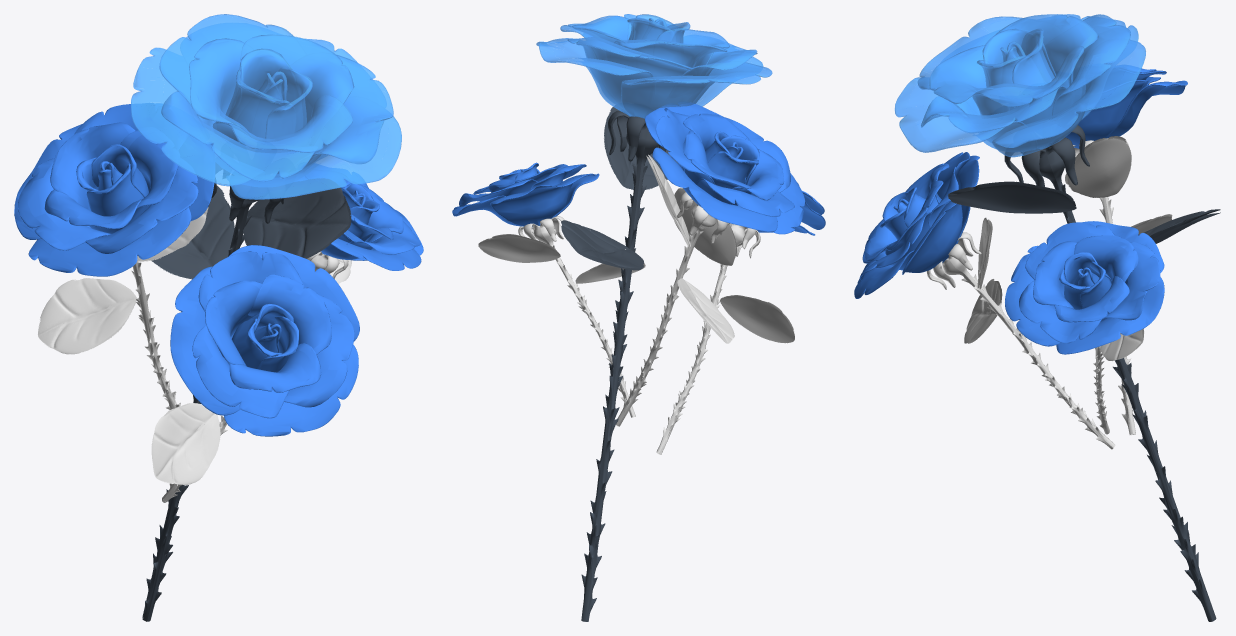
The picture shows the model from 3 angles, left to right: view 1: azimuth 30°, elevation 25°; view 2: azimuth 150°, elevation 25°; view 3: azimuth 270°, elevation 25°; orthographic projection. The views are drawn at different scales.
Parts seen in each view (by area): view 1: 白玫瑰, 蓝玫瑰.002, 蓝玫瑰, 蓝玫瑰.003; view 2: 白玫瑰, 蓝玫瑰, 蓝玫瑰.003, 蓝玫瑰.002; view 3: 白玫瑰, 蓝玫瑰.003, 蓝玫瑰.002, 蓝玫瑰.
Part boxes in pixels (x1,y1,x2,y2): 白玫瑰: (131, 14, 401, 621); 蓝玫瑰.002: (151, 245, 359, 502); 蓝玫瑰: (14, 103, 214, 409); 蓝玫瑰.003: (219, 164, 423, 435); 白玫瑰: (536, 14, 772, 621); 蓝玫瑰: (616, 102, 804, 426); 蓝玫瑰.003: (452, 162, 645, 417); 蓝玫瑰.002: (656, 182, 825, 454); 白玫瑰: (894, 14, 1220, 621); 蓝玫瑰.003: (1005, 221, 1164, 434); 蓝玫瑰.002: (854, 152, 1115, 449); 蓝玫瑰: (1065, 65, 1187, 435).
Bounding box in the file's own units: 10.36 × 16.28 × 9.06.
